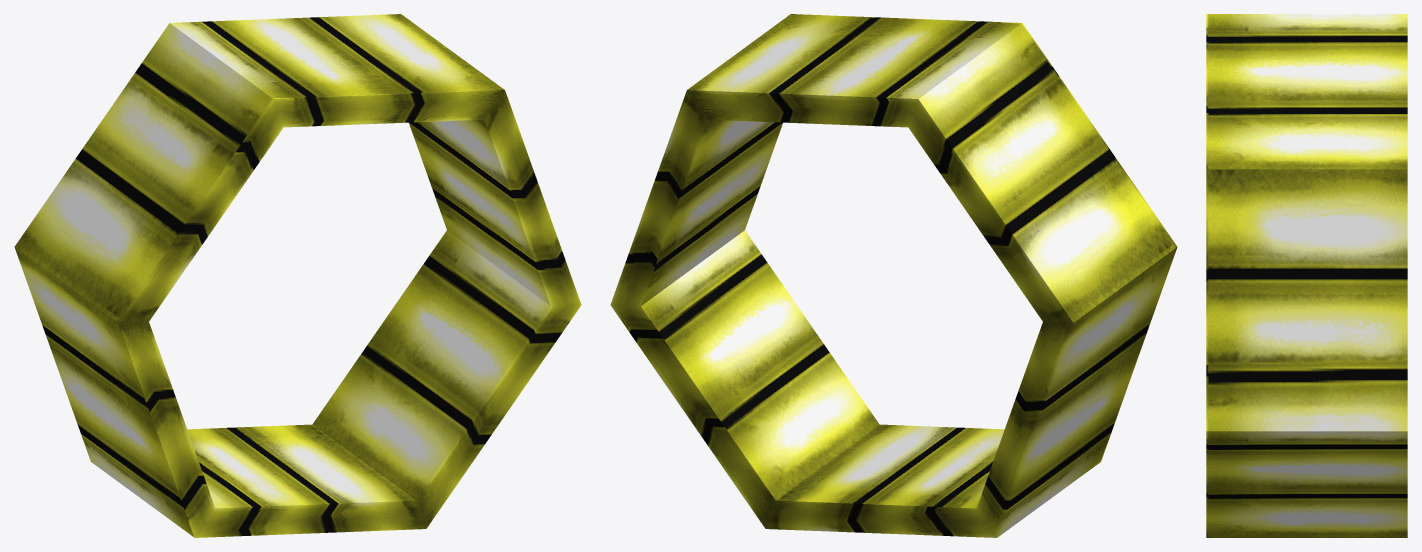
File: armbanduhr_2690.glb
The picture shows the model from 3 angles, left to right: view 1: azimuth 30°, elevation 25°; view 2: azimuth 150°, elevation 25°; view 3: azimuth 270°, elevation 25°; orthographic projection. The views are drawn at different scales.
Visible parts, largest first — view 1: pTorusShape1; view 2: pTorusShape1; view 3: pTorusShape1.
Part boxes in pixels (x1,y1,x2,y2): pTorusShape1: (14, 14, 581, 537); pTorusShape1: (610, 14, 1177, 537); pTorusShape1: (1206, 14, 1407, 537).
Size of the model in its own units: 0.0189 by 0.0182 by 0.00733.
Materials: 1 (1 with a texture image).
